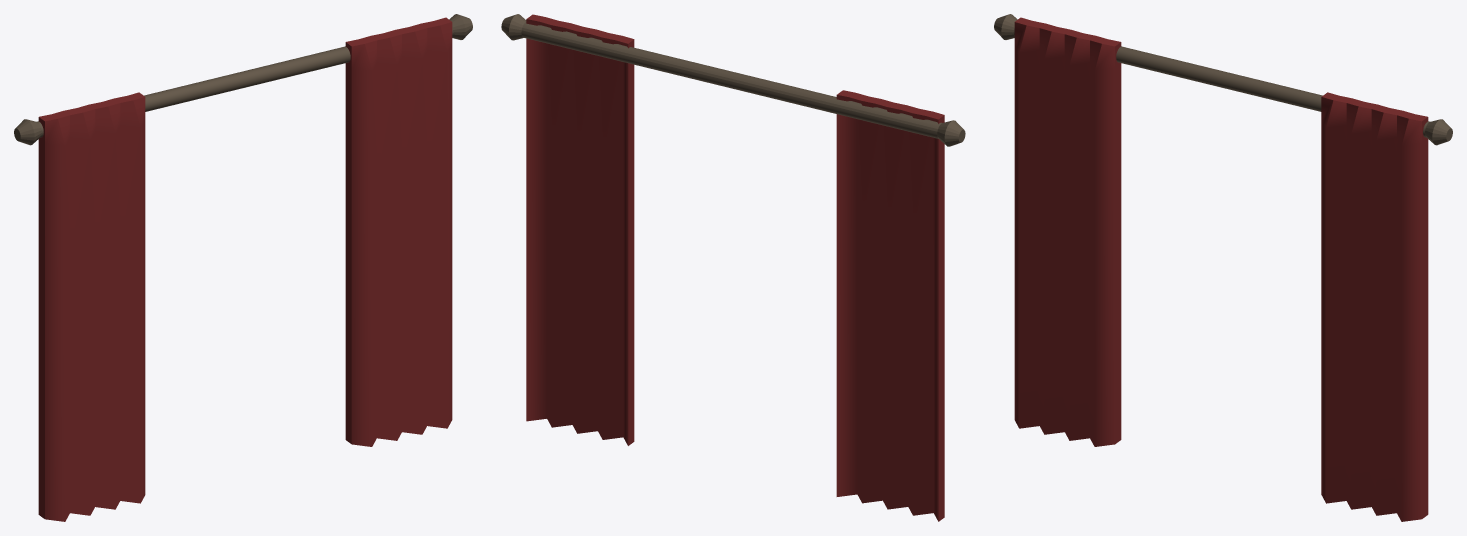
File: CurtainsOpen.fbx
3 renders of one model, left to right at view 1: azimuth 30°, elevation 25°; view 2: azimuth 150°, elevation 25°; view 3: azimuth 330°, elevation 25°, orthographic.
Visible parts, largest first — view 1: CurtainsOpen; view 2: CurtainsOpen; view 3: CurtainsOpen.
Part boxes in pixels (x1,y1,x2,y2): CurtainsOpen: [14, 14, 472, 521]; CurtainsOpen: [501, 14, 965, 521]; CurtainsOpen: [994, 14, 1452, 521].
Bounding box in the file's own units: 247 × 207 × 18.61.
